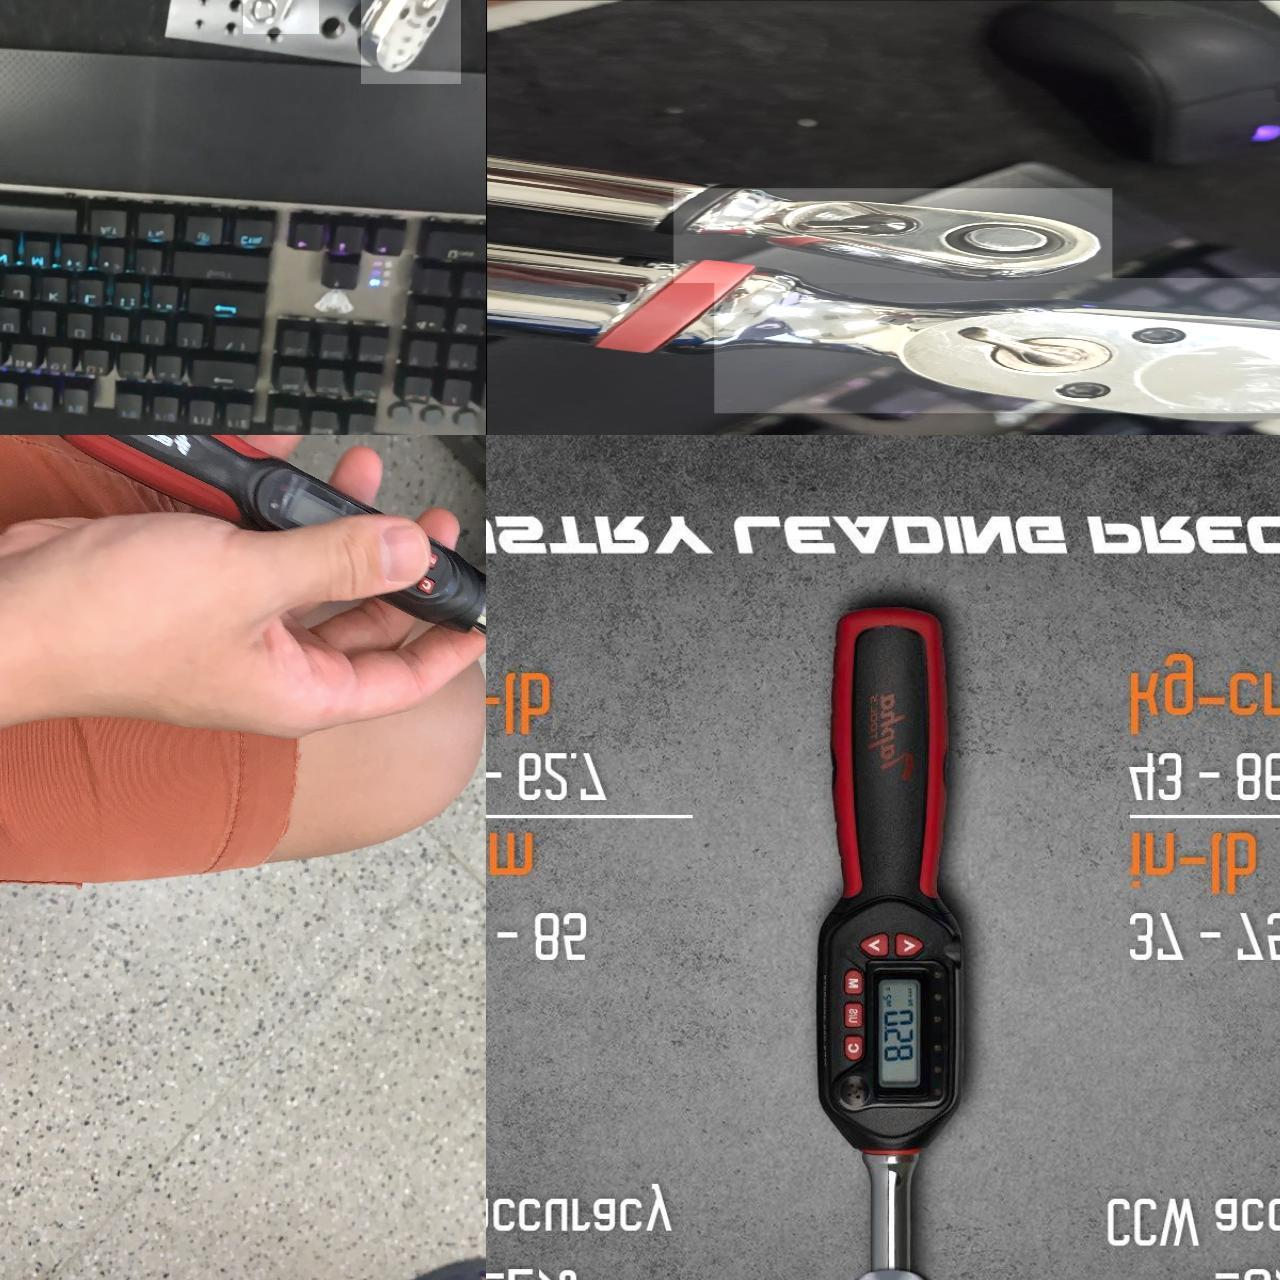Tool: (713, 278, 1280, 413), (673, 188, 1111, 282), (360, 0, 459, 83), (241, 0, 318, 33)
